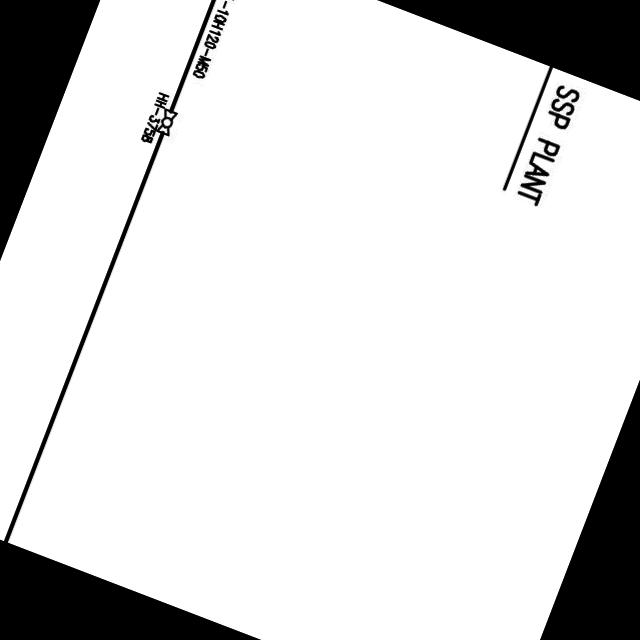BV2: (156, 104, 182, 139)
